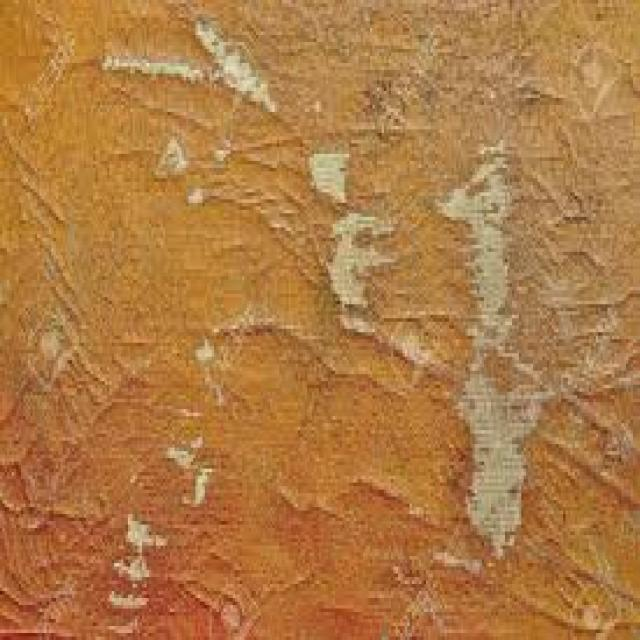Rotten surface: (432, 151, 552, 571), (282, 132, 401, 359), (110, 24, 261, 138)
